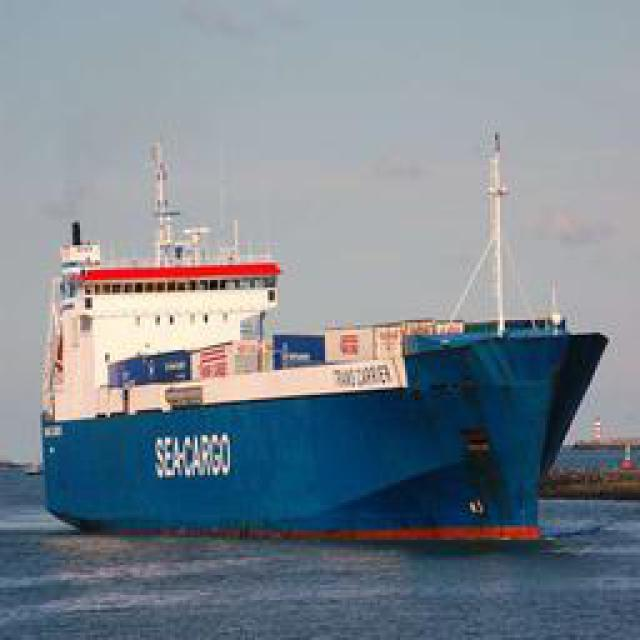Ship: (44, 115, 614, 538)
